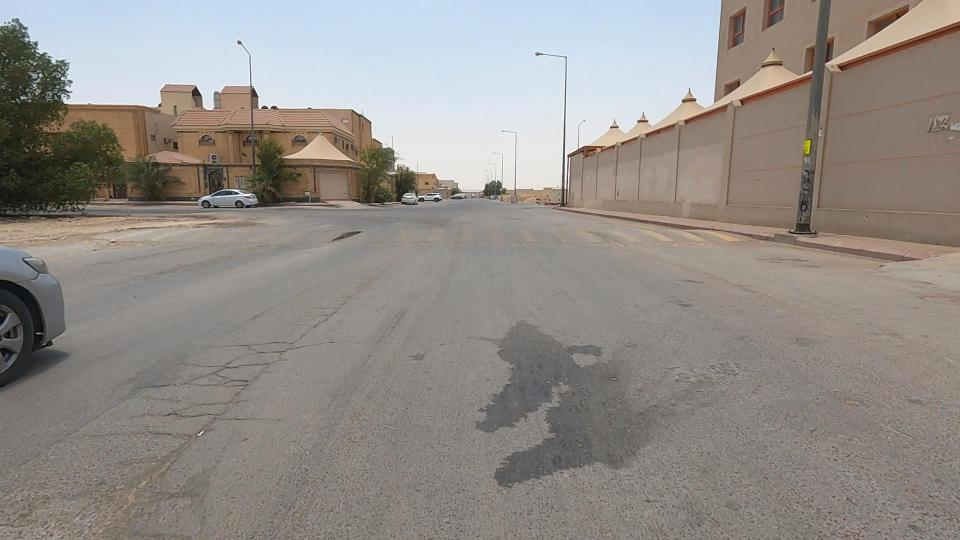POTHOLES: (77, 263, 350, 529)
